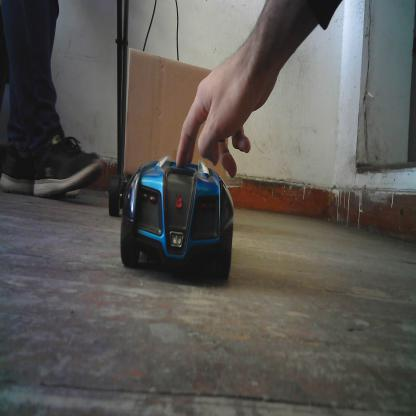LeadTruck: (114, 49, 228, 215)
